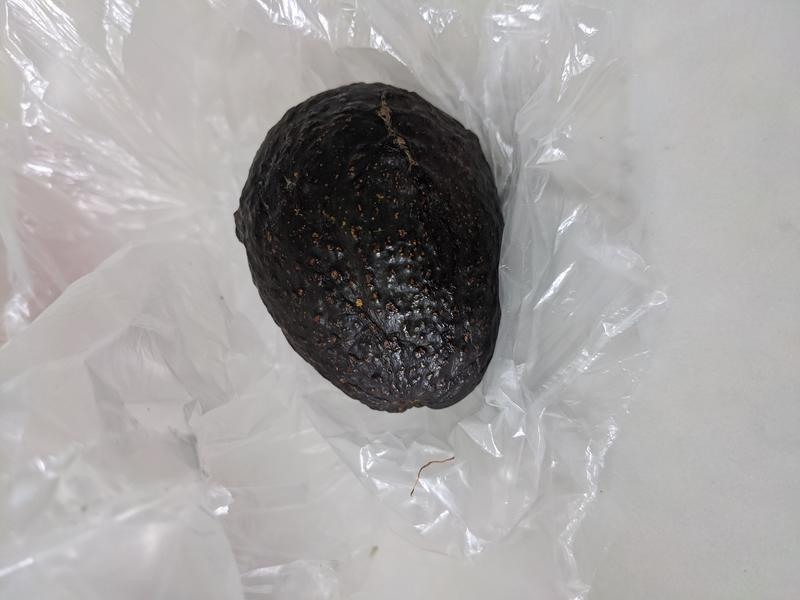avocado: (234, 81, 504, 413)
